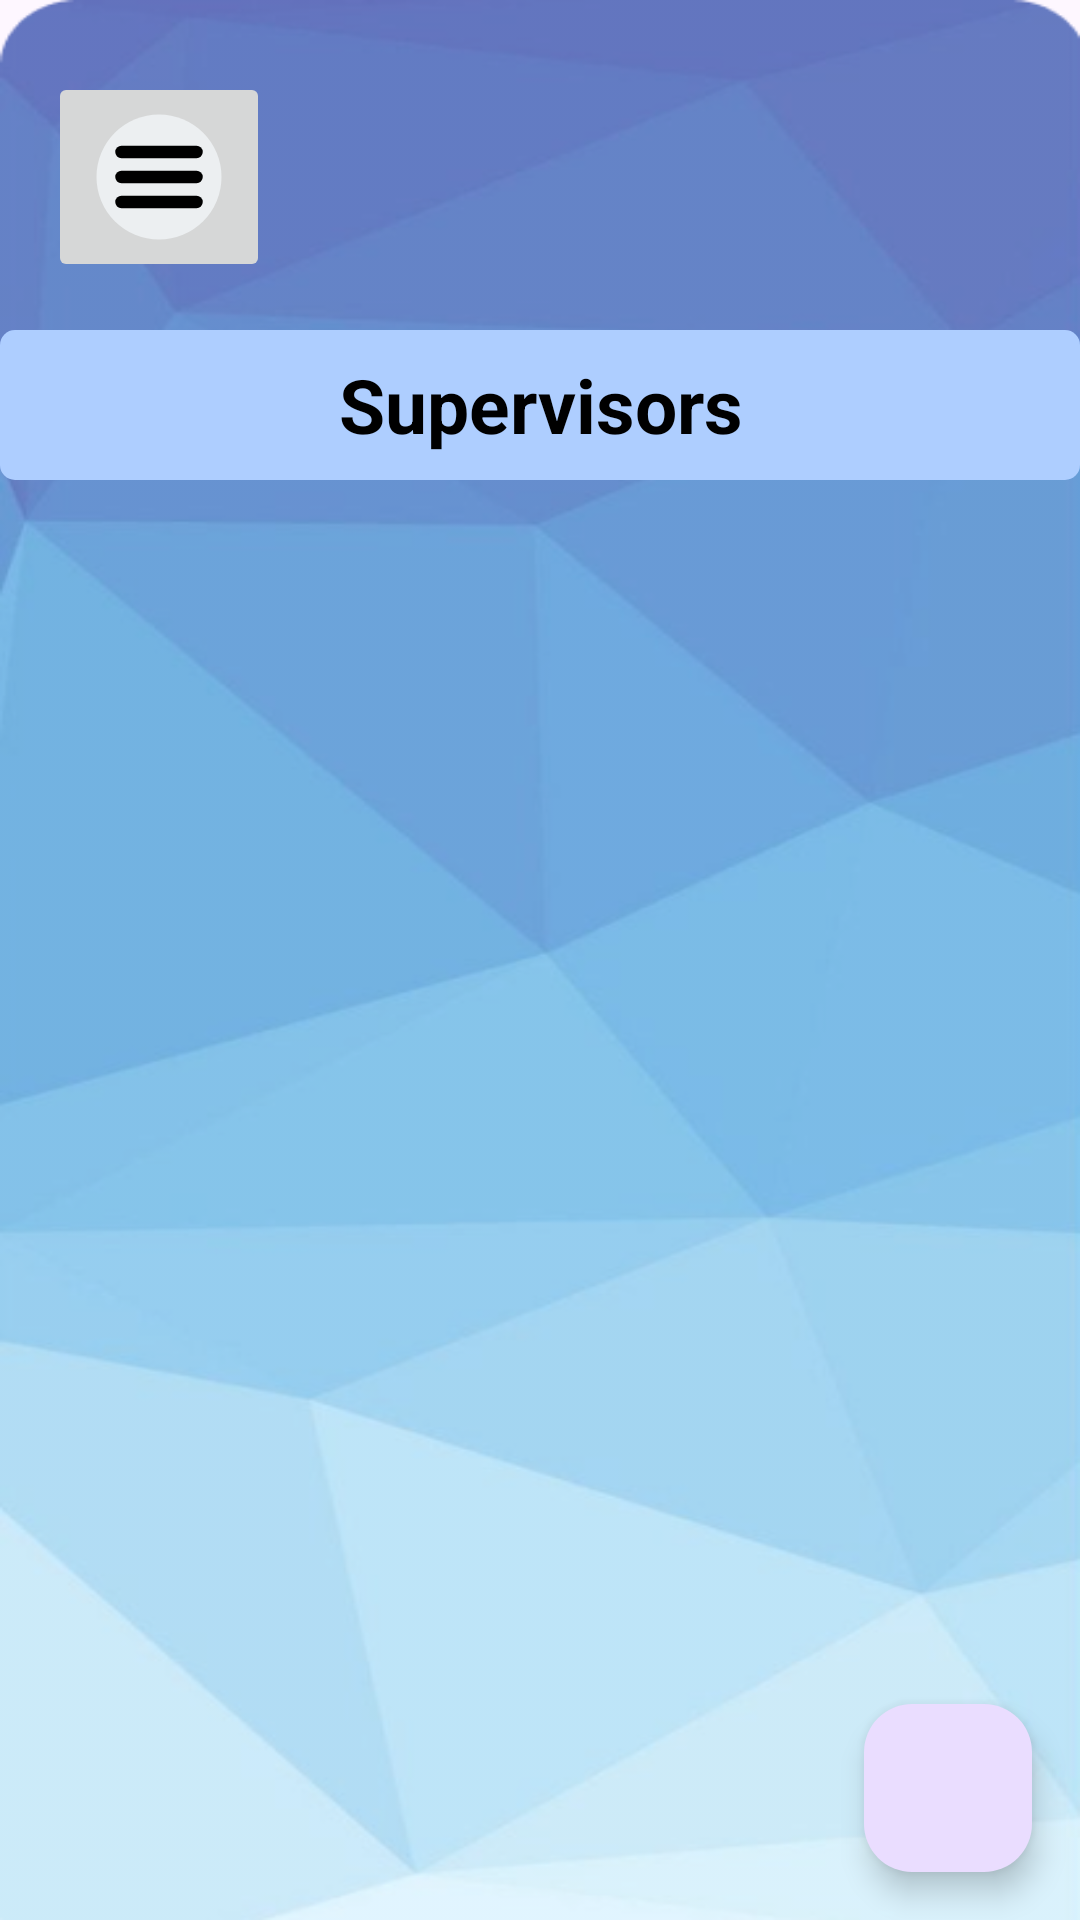

Named icons in this screenshot (1080w x 1920h) and their bounding boxes, (x1,y1,x2,y2):
hamburger: (60,90,258,264)
